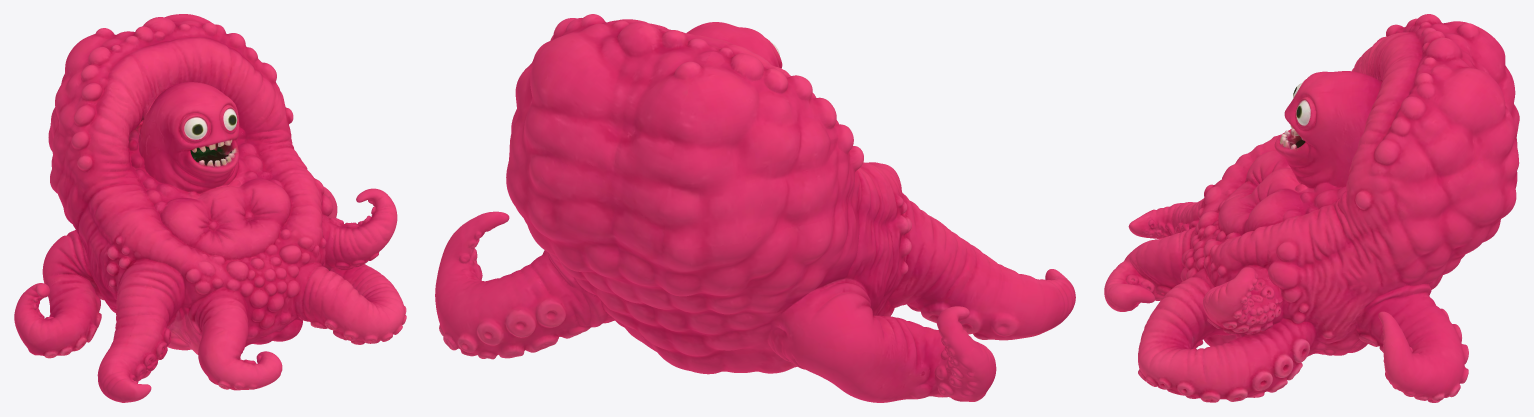
The model's file is throne.glb.
3 views of the same model, side by side, from view 1: azimuth 30°, elevation 25°; view 2: azimuth 150°, elevation 25°; view 3: azimuth 270°, elevation 25° (orthographic). The views are drawn at different scales.
Size of the model in its own units: 1.9 by 1.33 by 1.72.
1 material, 1 textured.
